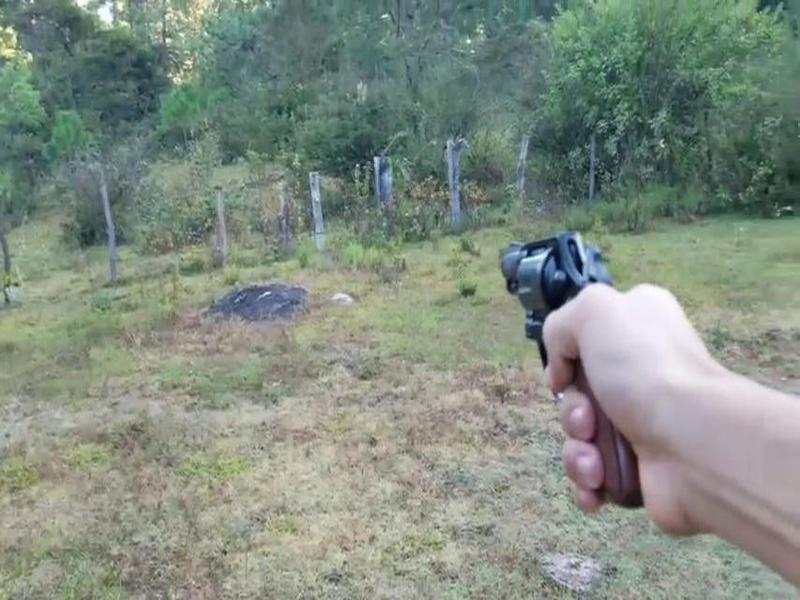Revolver: (474, 222, 628, 484)
